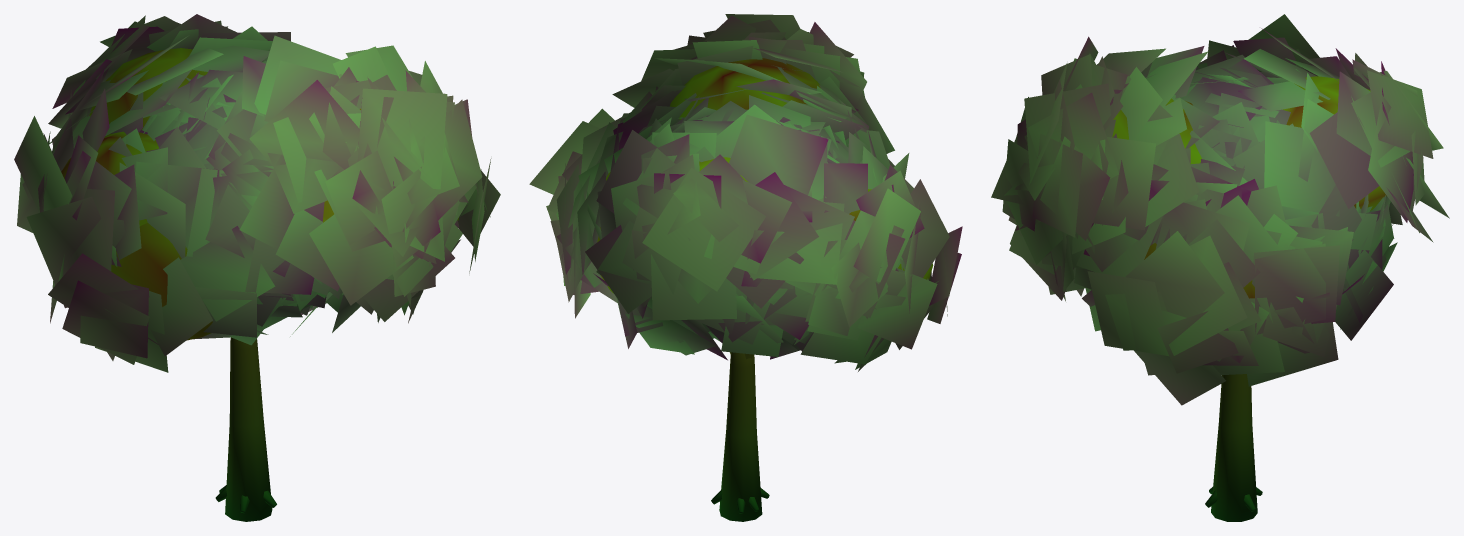
The model's file is tree_oak_c.glb.
3 views of the same model, side by side, from view 1: azimuth 30°, elevation 25°; view 2: azimuth 150°, elevation 25°; view 3: azimuth 270°, elevation 25° (orthographic). The views are drawn at different scales.
Visible parts, largest first — view 1: tree_oak_c; view 2: tree_oak_c; view 3: tree_oak_c.
Part boxes in pixels (bbox=[...]): tree_oak_c: bbox=[14, 14, 500, 521]; tree_oak_c: bbox=[529, 14, 962, 521]; tree_oak_c: bbox=[991, 14, 1449, 521].
Size of what is drawn, in the model's own units: 8.86 by 9.35 by 8.21.
